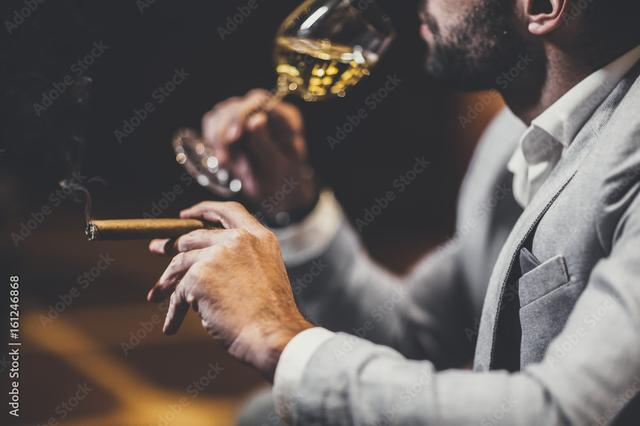Cigar: (83, 216, 225, 241)
